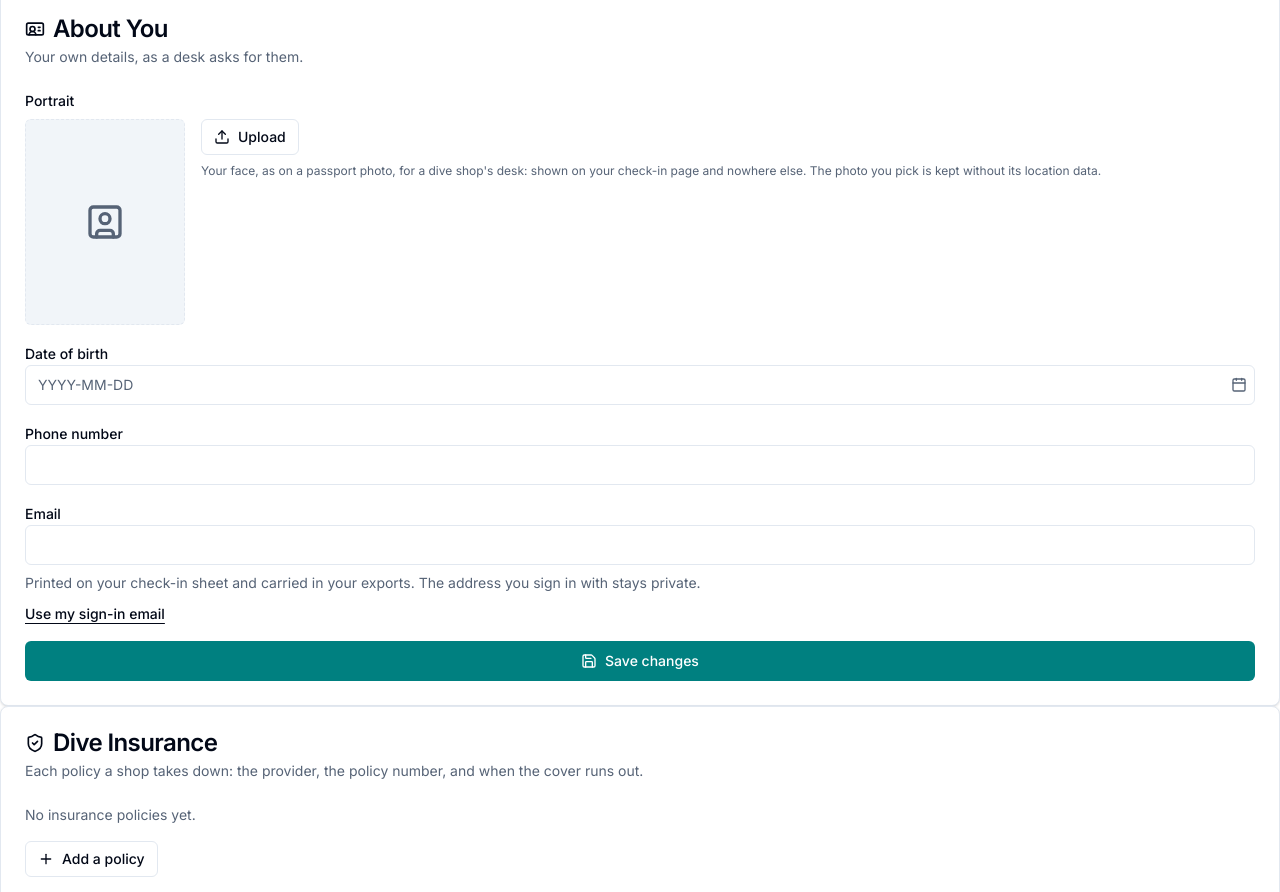
Test case: the cards side by side › leaves both of two saves standing, on the copy and on the sheet
In the field labelled "Email": (640, 545) [25,525,1255,565], type "desk@example.org"
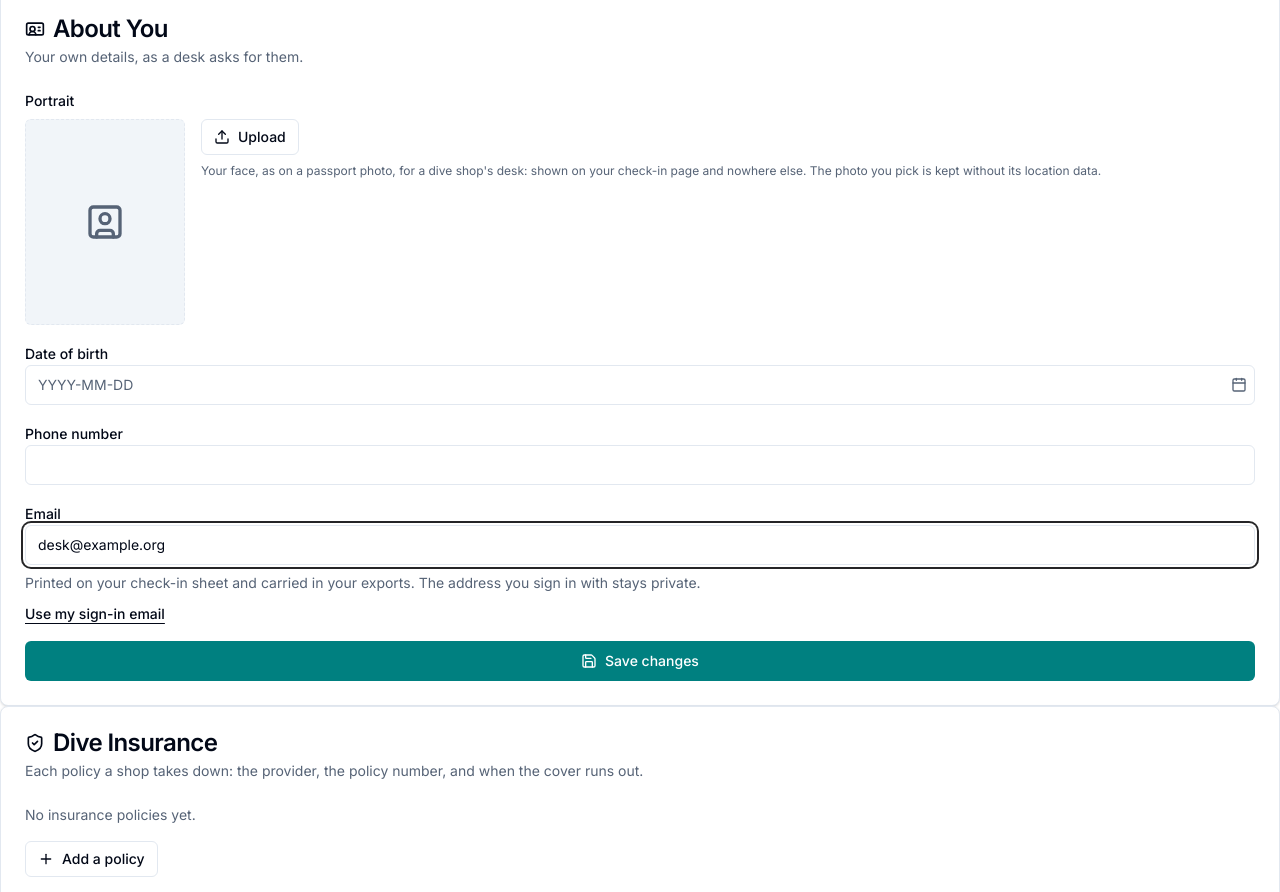
Click the button "Save changes": (640, 661) [25,641,1255,681]
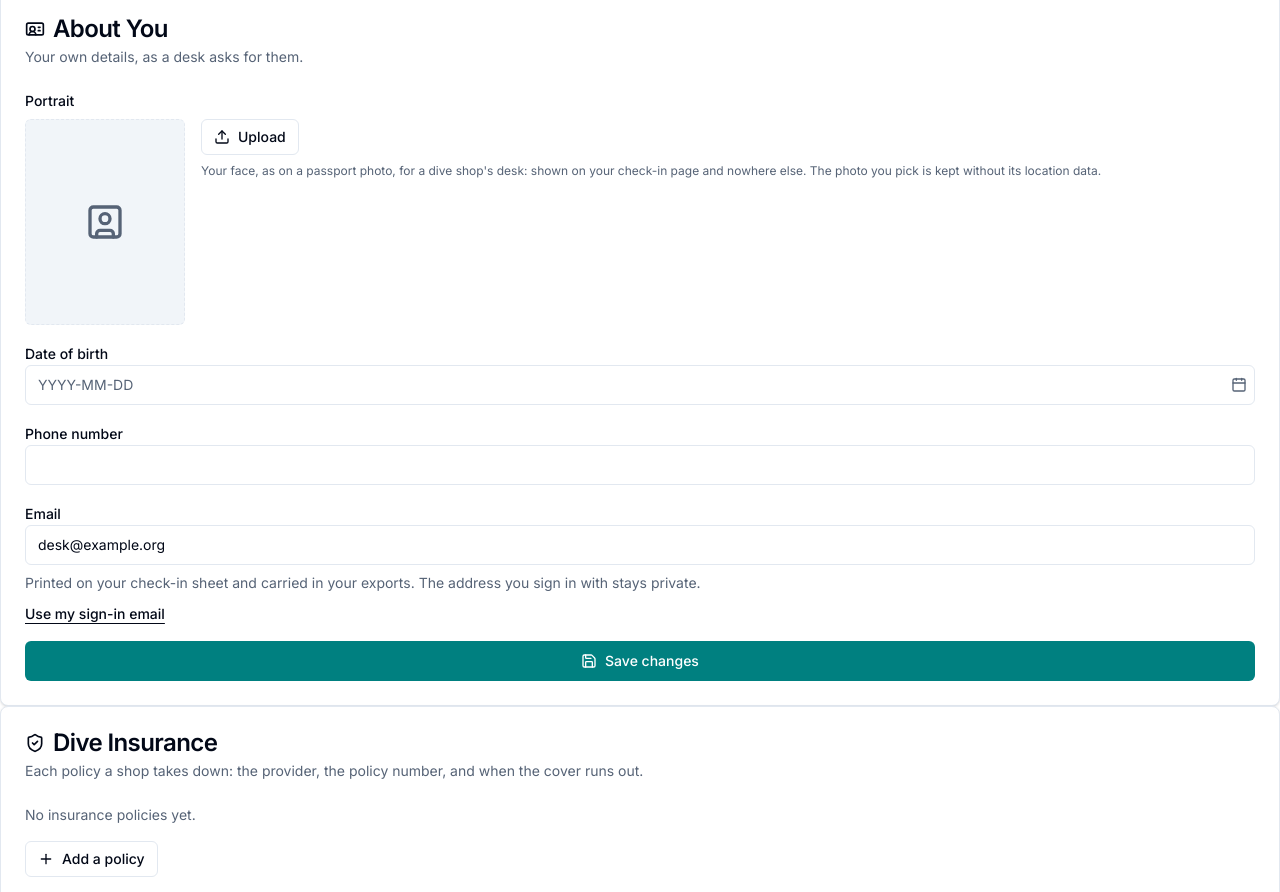
Click the button "Add a policy": (91, 859) [25,841,158,877]
(page scrolled)
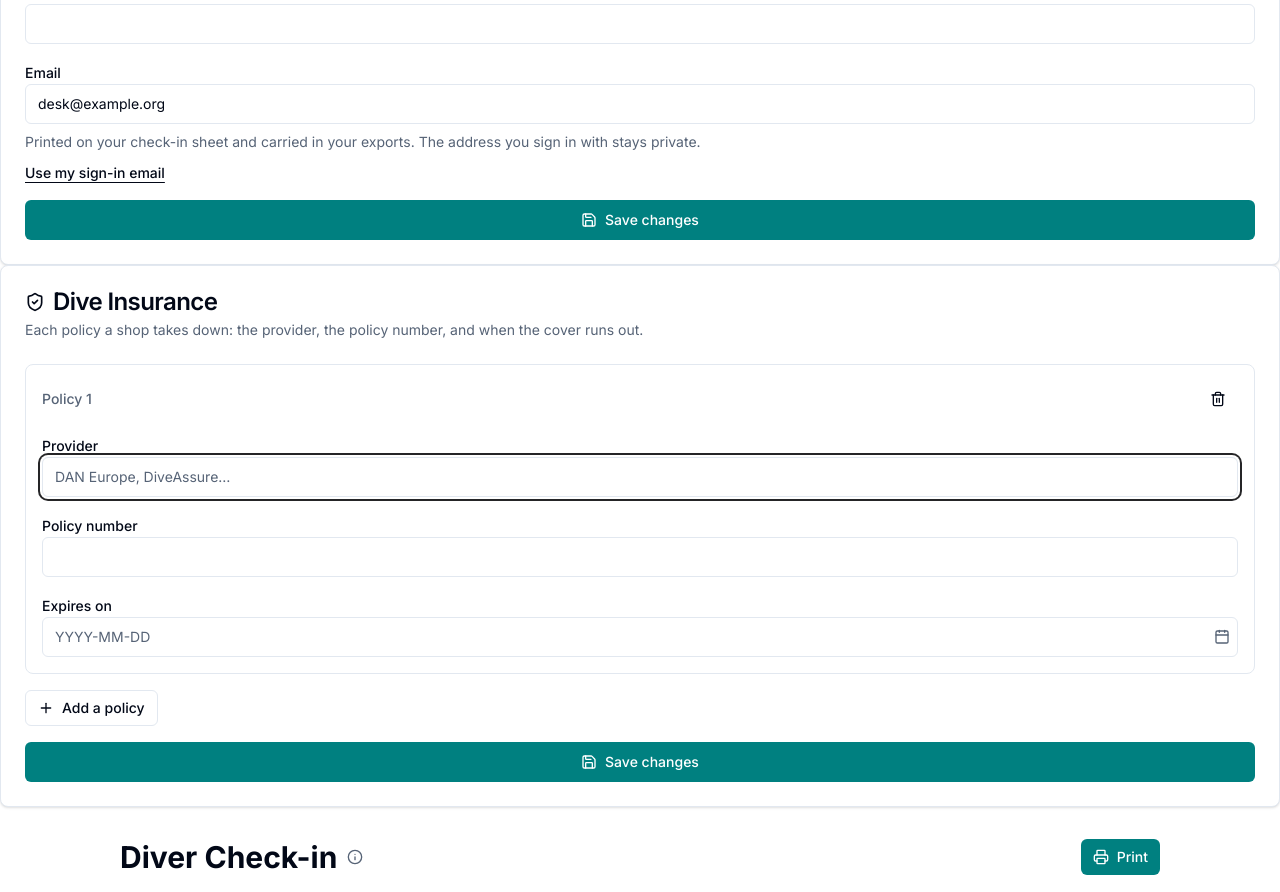
In the field named "Provider policy 1 of 1": (640, 477) [42,457,1238,497], type "DAN Europe"
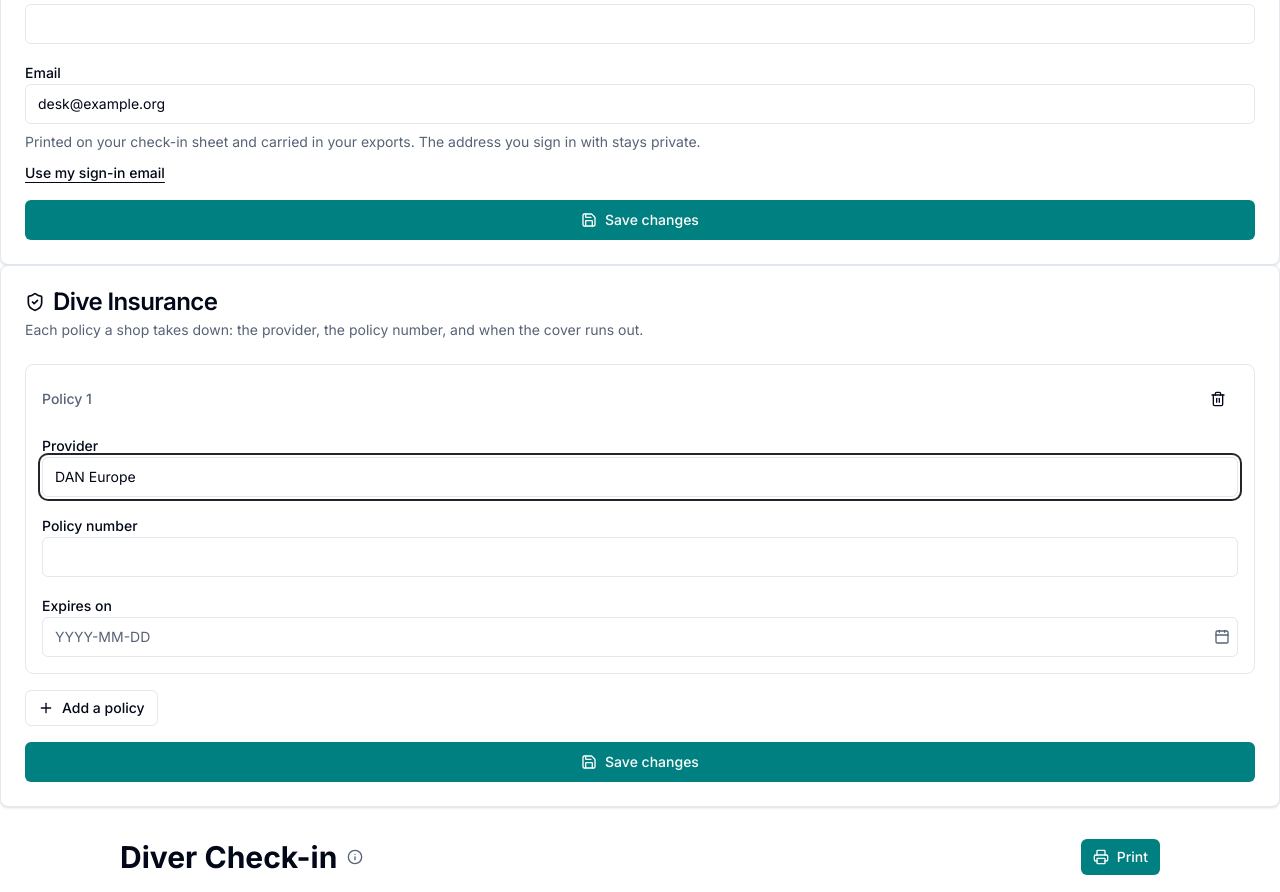
Click the button "Save changes" below "Expires on": (640, 762) [25,742,1255,782]
(page scrolled)
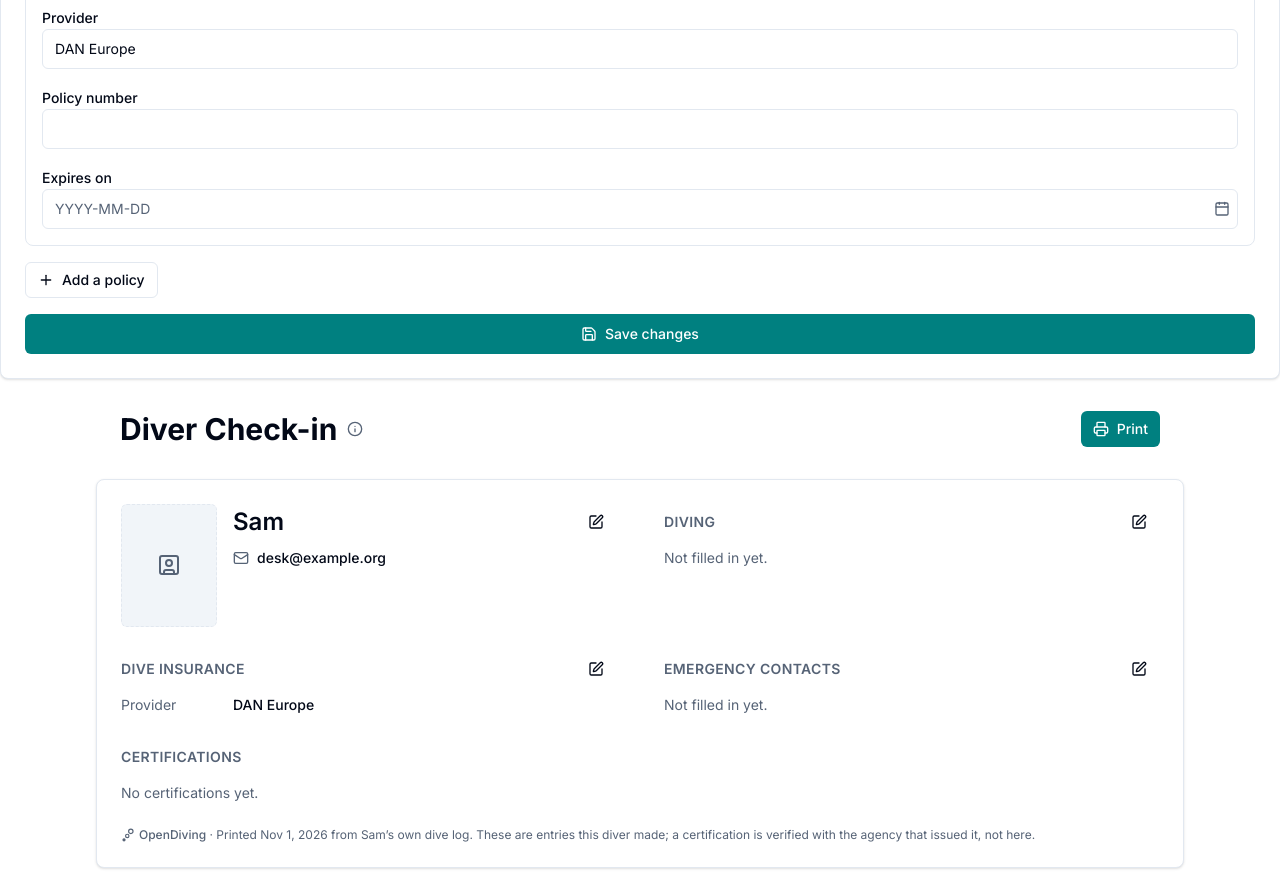
Now the text "desk@example.org" is shown, box [257,548,386,568]
Now the text "DAN Europe" is shown, box [233,696,314,713]
